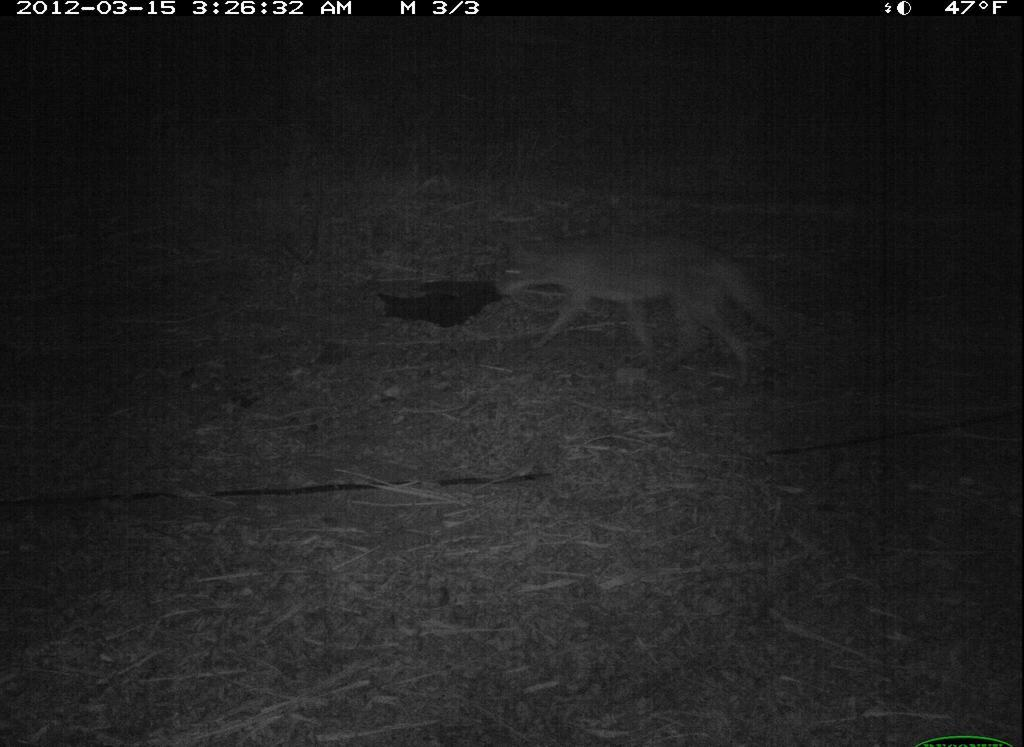coyote: (482, 230, 790, 391)
